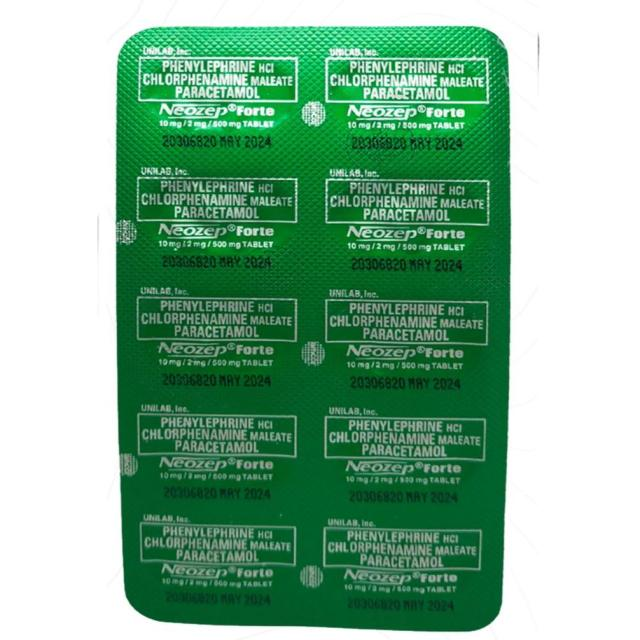blister: (107, 17, 519, 638)
